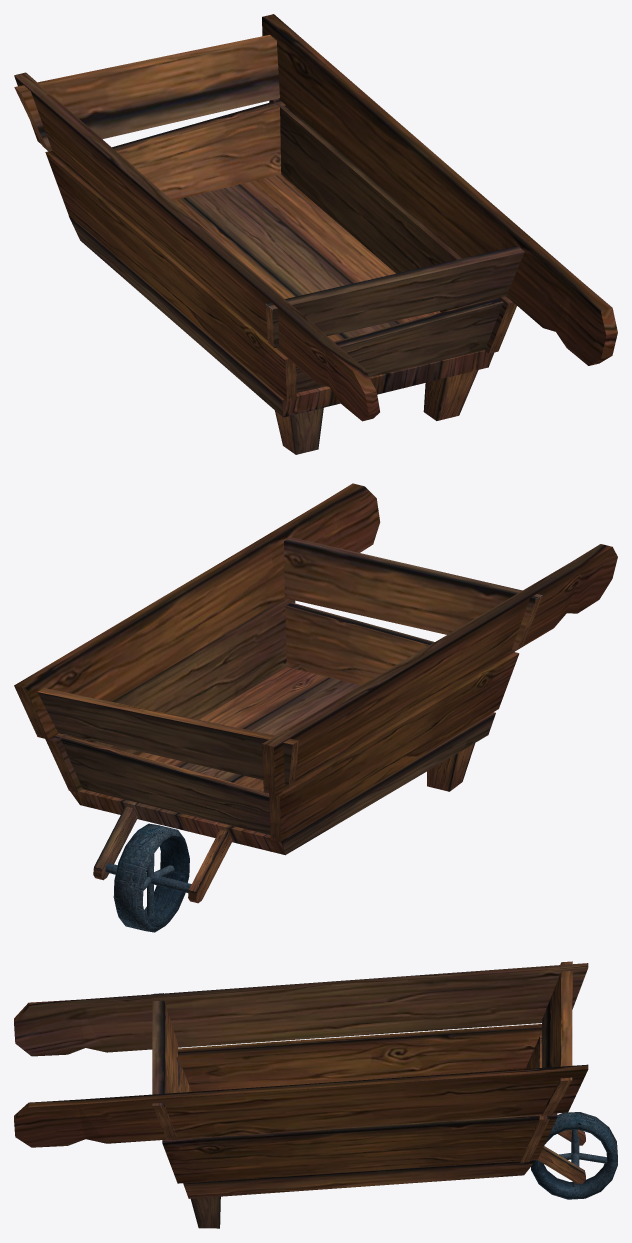
The model's file is Carreta.fbx.
3 views of the same model, one above another, from view 1: azimuth 30°, elevation 25°; view 2: azimuth 150°, elevation 25°; view 3: azimuth 270°, elevation 25° (orthographic). The views are drawn at different scales.
Parts seen in each view (by area): view 1: Carreta; view 2: Carreta; view 3: Carreta.
Boxes of the visible parts, left/top/right/bottom form: Carreta: left=14, top=14, right=617, bottom=454; Carreta: left=14, top=483, right=617, bottom=932; Carreta: left=14, top=961, right=617, bottom=1228.
Bounding box in the file's own units: 12.59 × 29.12 × 9.63.
Materials: 1 (1 with a texture image).
